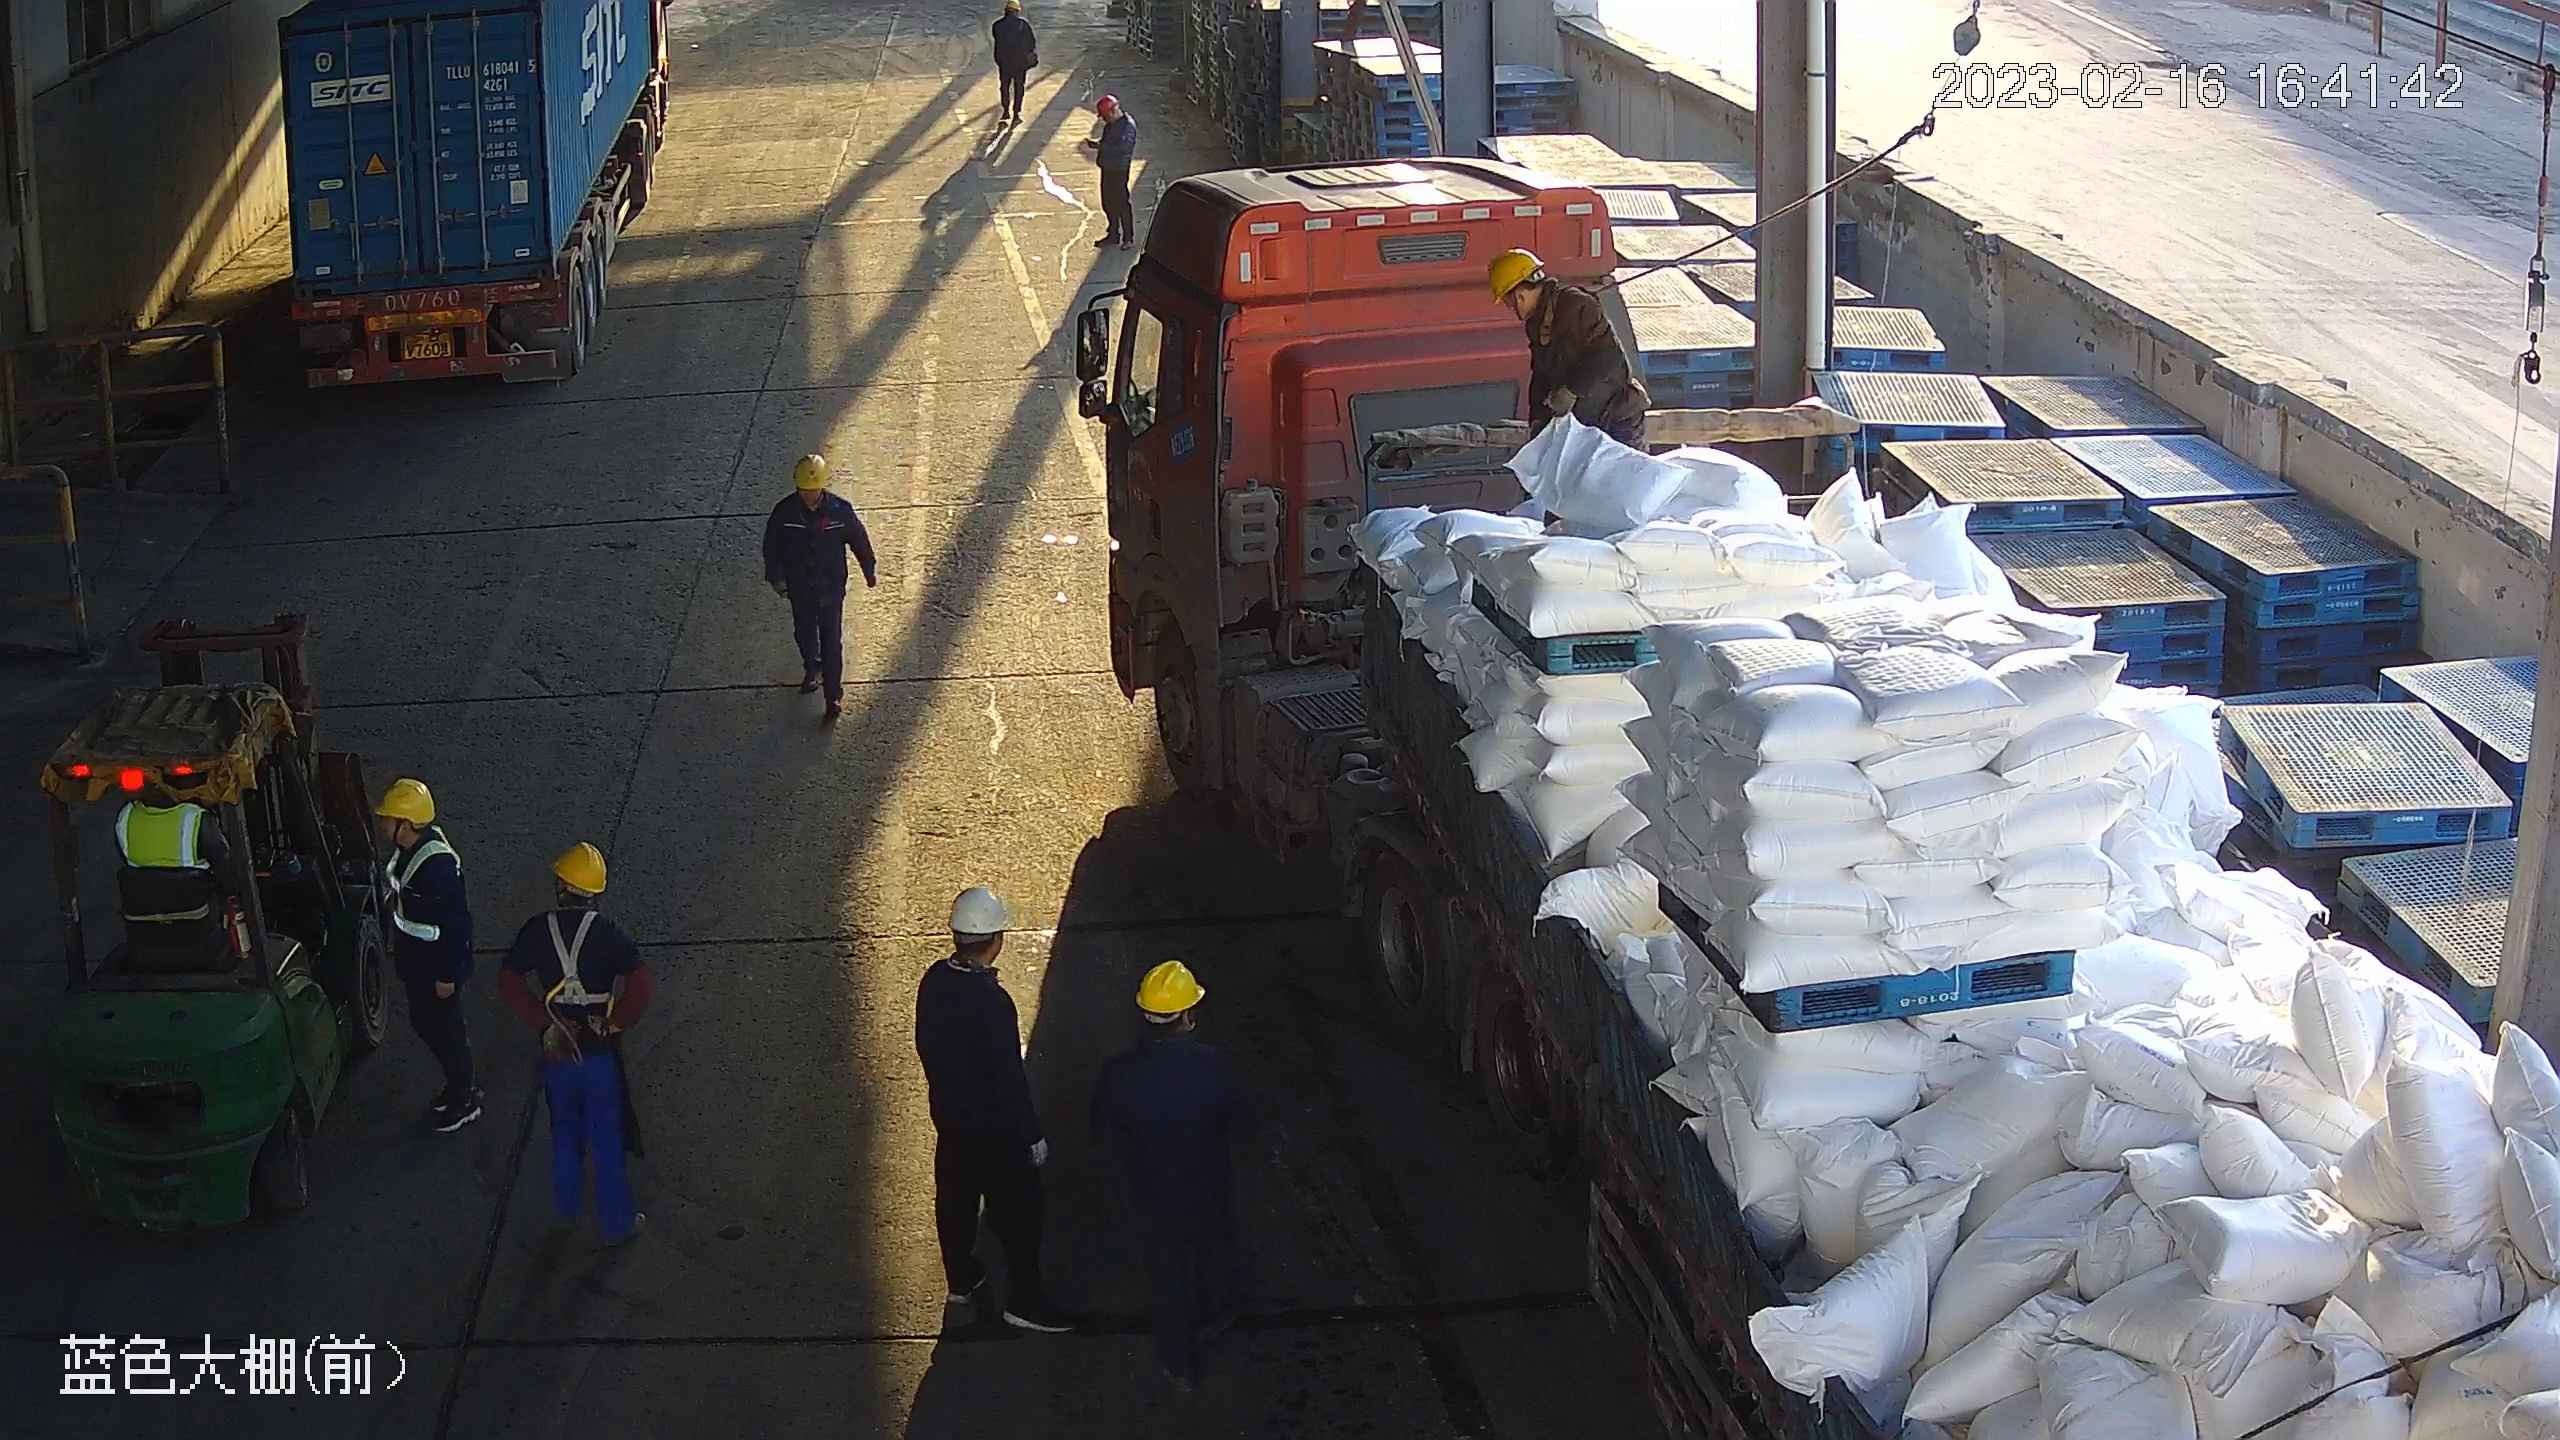belt: (542, 913, 606, 1008), (1540, 281, 1615, 342)
head: (1092, 960, 1233, 1102), (1486, 250, 1613, 380), (506, 840, 633, 971), (916, 890, 1020, 1028), (371, 779, 463, 900), (771, 456, 856, 534), (1082, 93, 1135, 141), (993, 1, 1035, 40)
helmet: (1137, 961, 1204, 1021), (1488, 248, 1544, 306), (375, 776, 438, 823), (949, 888, 1010, 937), (557, 841, 606, 893), (795, 456, 828, 490), (1097, 93, 1119, 116), (1006, 1, 1019, 10)
people: (914, 889, 1076, 1340), (1087, 958, 1242, 1395), (500, 840, 648, 1248), (1487, 248, 1653, 532), (372, 777, 489, 1134), (764, 455, 874, 718), (1080, 93, 1136, 250), (990, 1, 1037, 128)
truck: (1076, 147, 2560, 1440), (274, 11, 676, 400)
